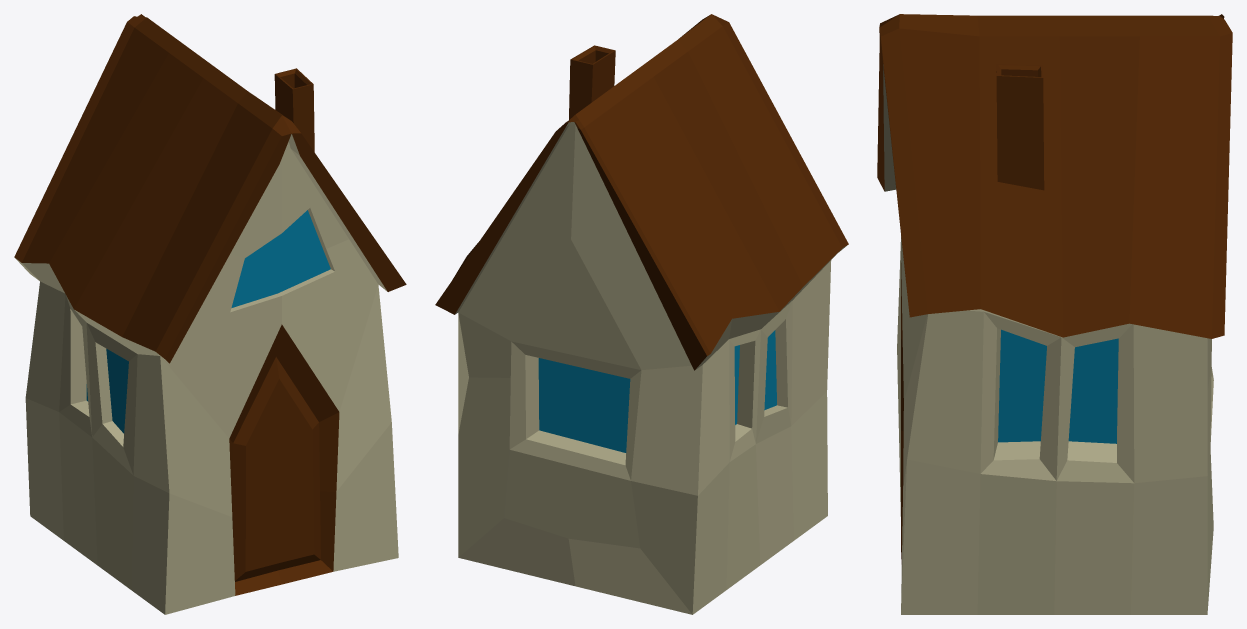
Rendered from House_V4.fbx.
The picture shows the model from 3 angles, left to right: view 1: azimuth 30°, elevation 25°; view 2: azimuth 150°, elevation 25°; view 3: azimuth 270°, elevation 25°; orthographic projection. The views are drawn at different scales.
Visible parts, largest first — view 1: Cube; view 2: Cube; view 3: Cube.
Part boxes in pixels (x1,y1,x2,y2): Cube: (14,14,406,614); Cube: (435,14,848,614); Cube: (877,14,1232,614).
Size of the model in its own units: 2.42 by 3.86 by 2.32.
